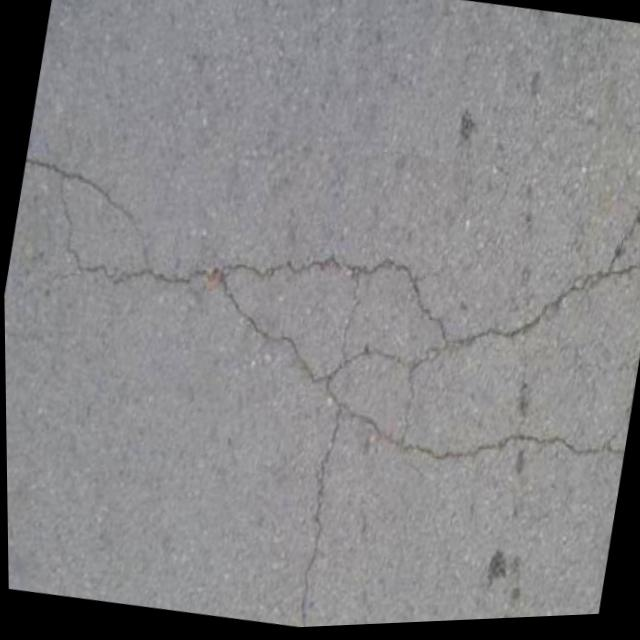Crack: (0, 0, 640, 517), (276, 412, 353, 631)
